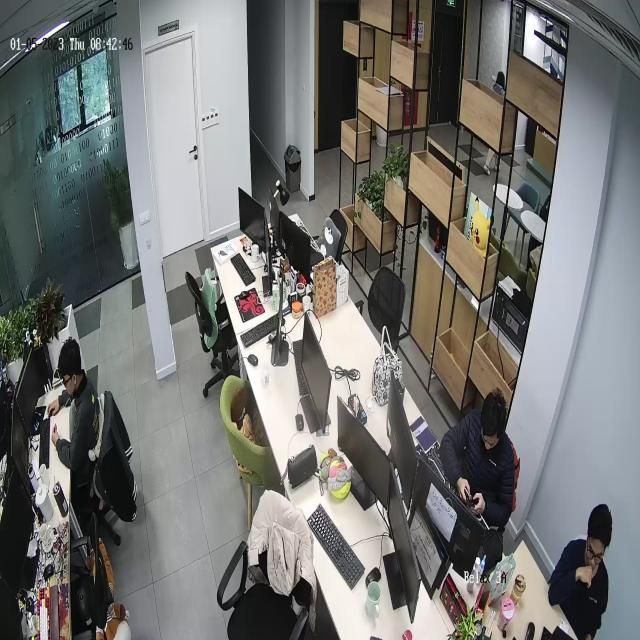person: (46, 339, 102, 538), (443, 388, 515, 519), (547, 504, 612, 640)
